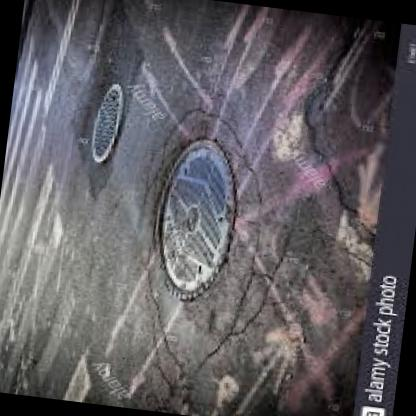manholes: (123, 124, 269, 310), (56, 63, 146, 178)
